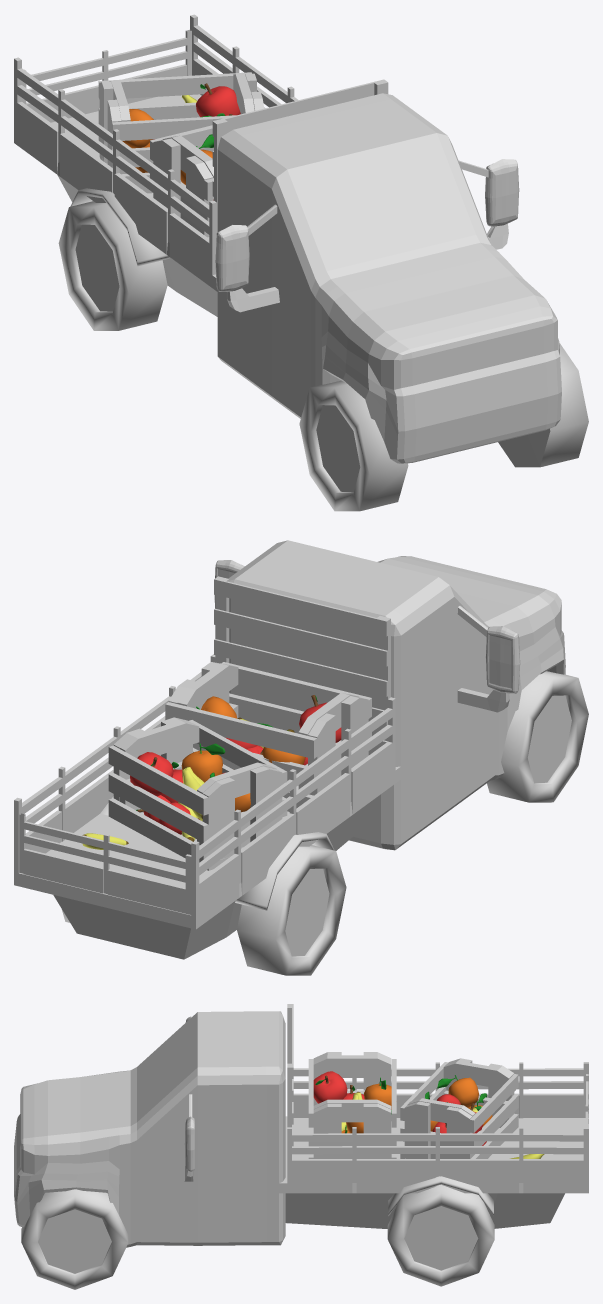
The model's file is CaminhoneteFrutas.fbx.
3 renders of one model, top to bottom at view 1: azimuth 30°, elevation 25°; view 2: azimuth 150°, elevation 25°; view 3: azimuth 270°, elevation 25°, orthographic. The views are drawn at different scales.
Visible parts, largest first — view 1: CaminhoneteFrutas; view 2: CaminhoneteFrutas; view 3: CaminhoneteFrutas.
Boxes of the visible parts, left/top/right/bottom form: CaminhoneteFrutas: left=14, top=14, right=588, bottom=511; CaminhoneteFrutas: left=14, top=540, right=588, bottom=975; CaminhoneteFrutas: left=14, top=1004, right=588, bottom=1289.
Bounding box in the file's own units: 251 × 221 × 542.
